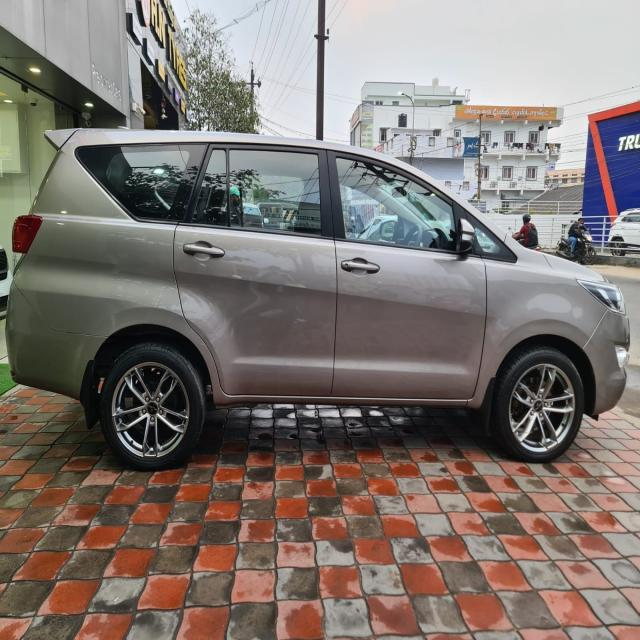light_vehicle: (1, 128, 631, 471)
